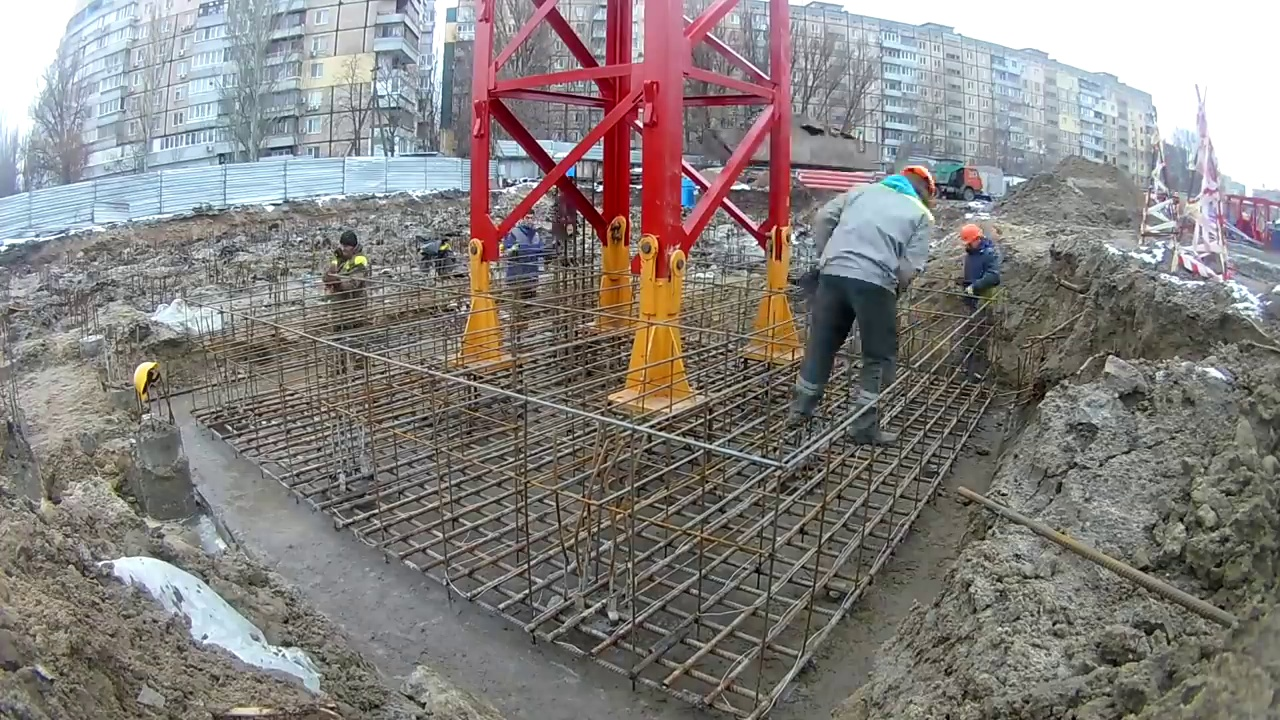helmet: (133, 362, 160, 398), (961, 227, 983, 245)
helmet-off: (340, 231, 357, 256), (520, 209, 536, 230)
helmet-on: (898, 168, 935, 201), (961, 227, 983, 250)
person: (786, 165, 936, 445), (324, 230, 371, 376), (960, 226, 1003, 343), (505, 209, 541, 332)
